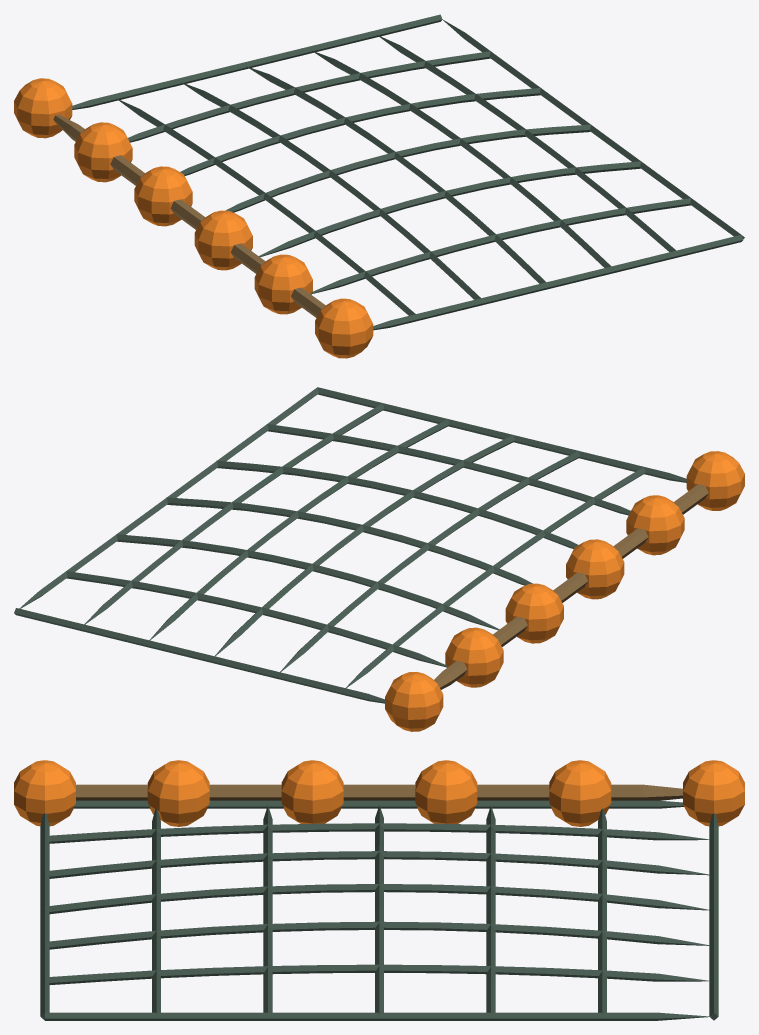
File: NetFloats.glb
3 views of the same model, one above another, from view 1: azimuth 30°, elevation 25°; view 2: azimuth 150°, elevation 25°; view 3: azimuth 270°, elevation 25° (orthographic). The views are drawn at different scales.
Visible parts, largest first — view 1: NetFloats; view 2: NetFloats; view 3: NetFloats.
Part boxes in pixels (x1,y1,x2,y2): NetFloats: (14,14,744,358); NetFloats: (14,387,744,731); NetFloats: (14,760,744,1020).
Bounding box in the file's own units: 3.27 × 0.4 × 4.37.
Materials: 1 (1 with a texture image).
